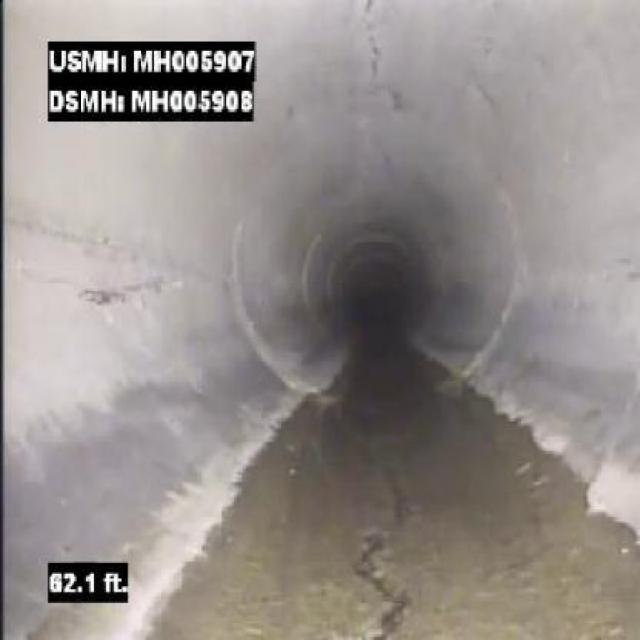Buckling: (350, 508, 424, 635)
Crack: (358, 6, 408, 111), (69, 271, 166, 311)
